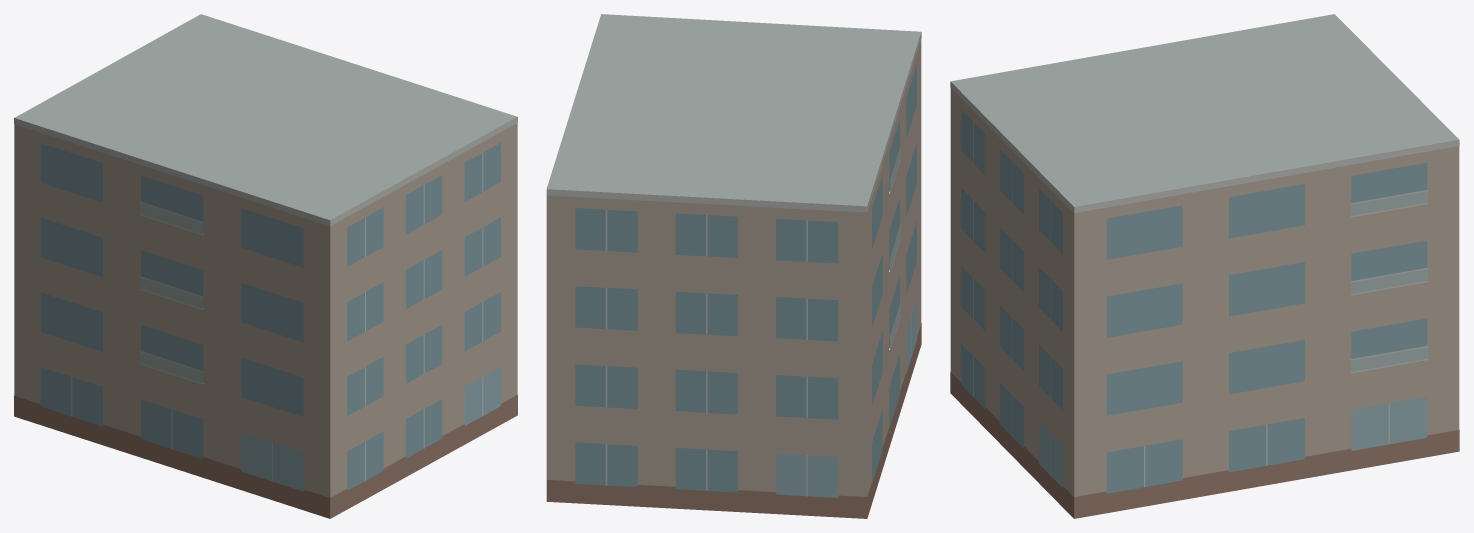
Rendered from survey-upis-32862637.glb.
3 views of the same model, side by side, from view 1: azimuth 30°, elevation 25°; view 2: azimuth 150°, elevation 25°; view 3: azimuth 270°, elevation 25° (orthographic). The views are drawn at different scales.
Parts seen in each view (by area): view 1: survey-upis-32862637.tmp; view 2: survey-upis-32862637.tmp; view 3: survey-upis-32862637.tmp.
Boxes of the visible parts, x1,y1,x2,y2 form: survey-upis-32862637.tmp: [14, 14, 517, 518]; survey-upis-32862637.tmp: [546, 14, 921, 518]; survey-upis-32862637.tmp: [950, 14, 1459, 518].
Bounding box in the file's own units: 16.21 × 12.2 × 18.06.
